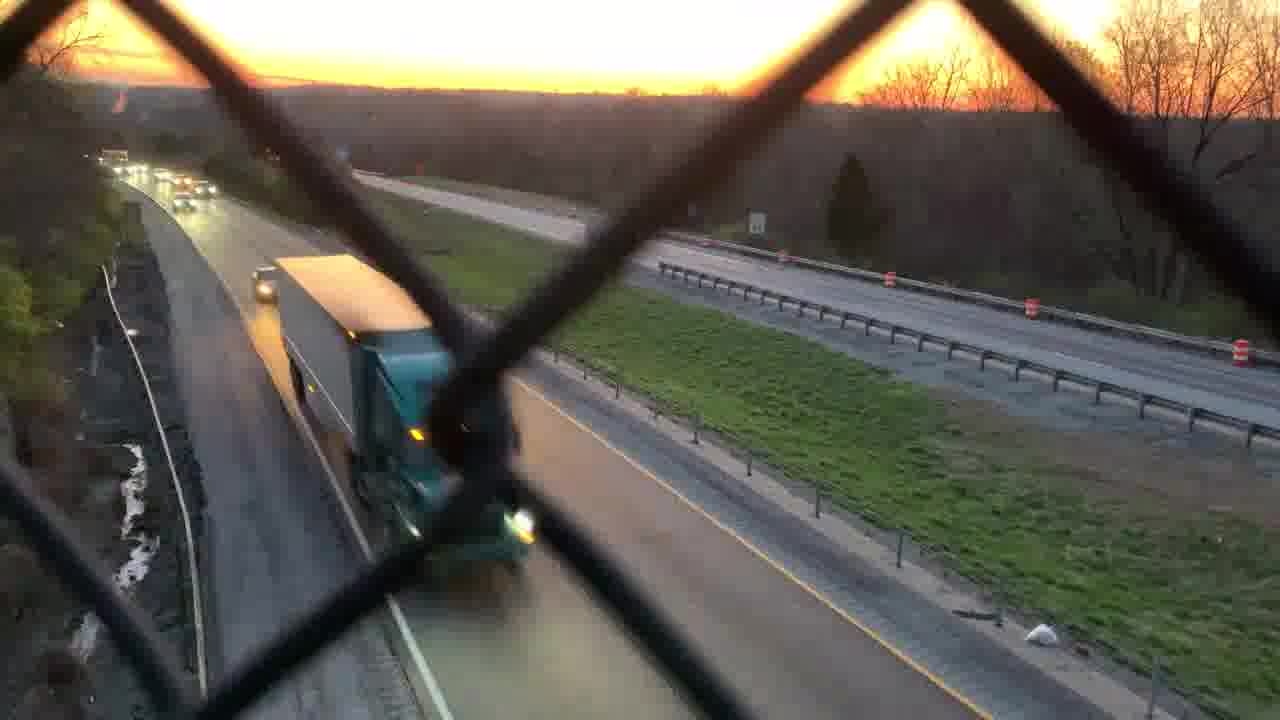heavyTruck: (269, 250, 542, 585)
